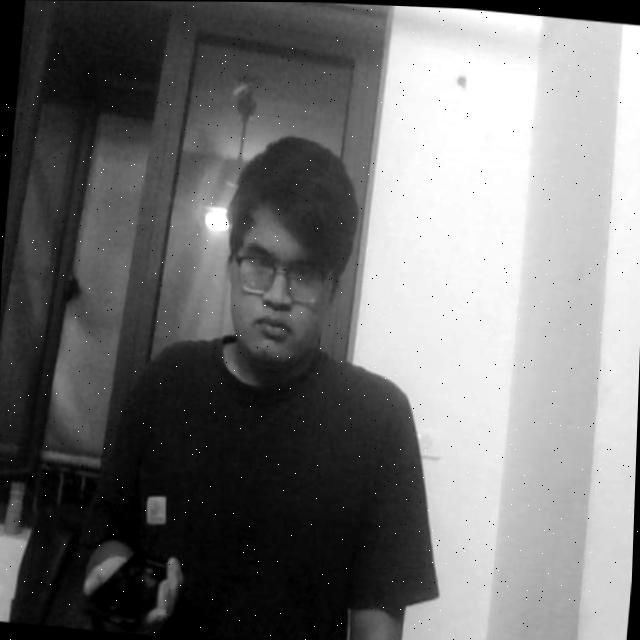phone: (72, 527, 181, 637)
